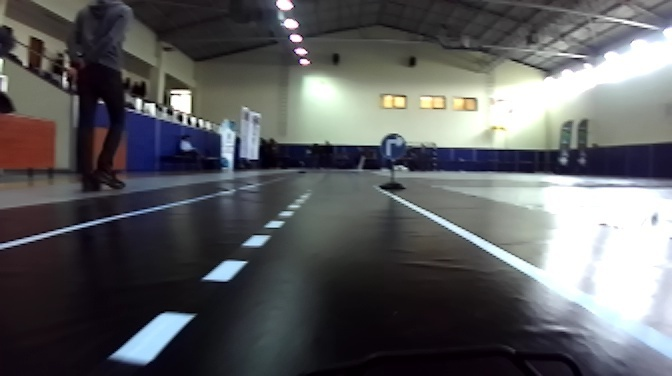saga_donus: (380, 134, 407, 161)
